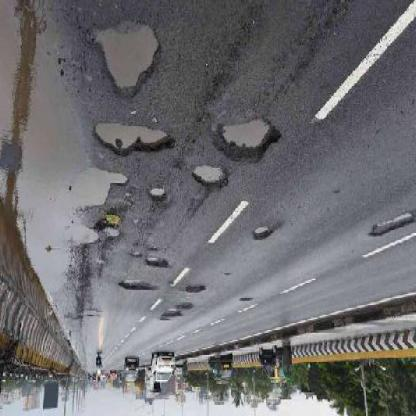pothole: (89, 25, 163, 102), (93, 123, 177, 160), (215, 120, 281, 166), (80, 172, 130, 213), (370, 213, 416, 242), (193, 166, 229, 194), (161, 302, 196, 327), (120, 281, 158, 295), (254, 226, 275, 244), (187, 284, 208, 298), (146, 258, 168, 270), (149, 190, 167, 204)
